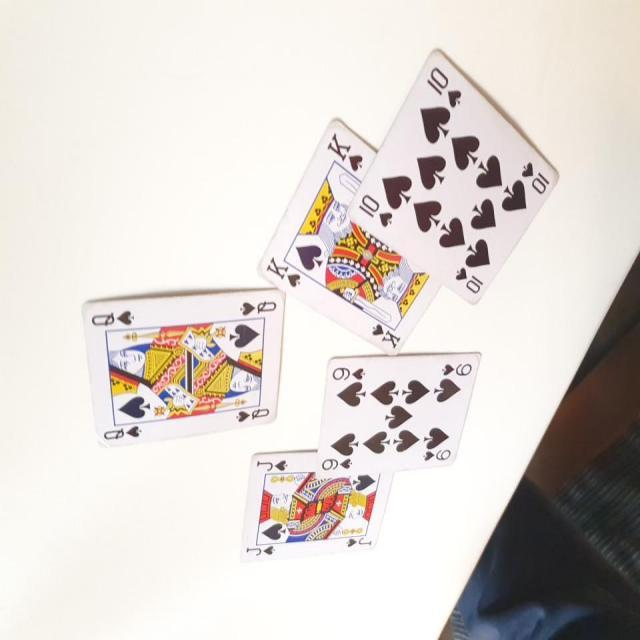10 of spades: (345, 36, 560, 322)
9 of spades: (311, 340, 474, 486)
jack of spades: (235, 442, 410, 552)
king of spades: (260, 112, 454, 358)
queen of spades: (80, 284, 286, 448)
